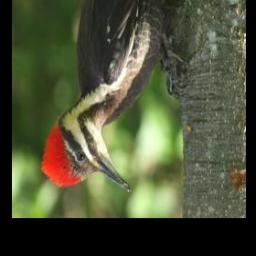Woodpecker: (42, 0, 187, 194)
